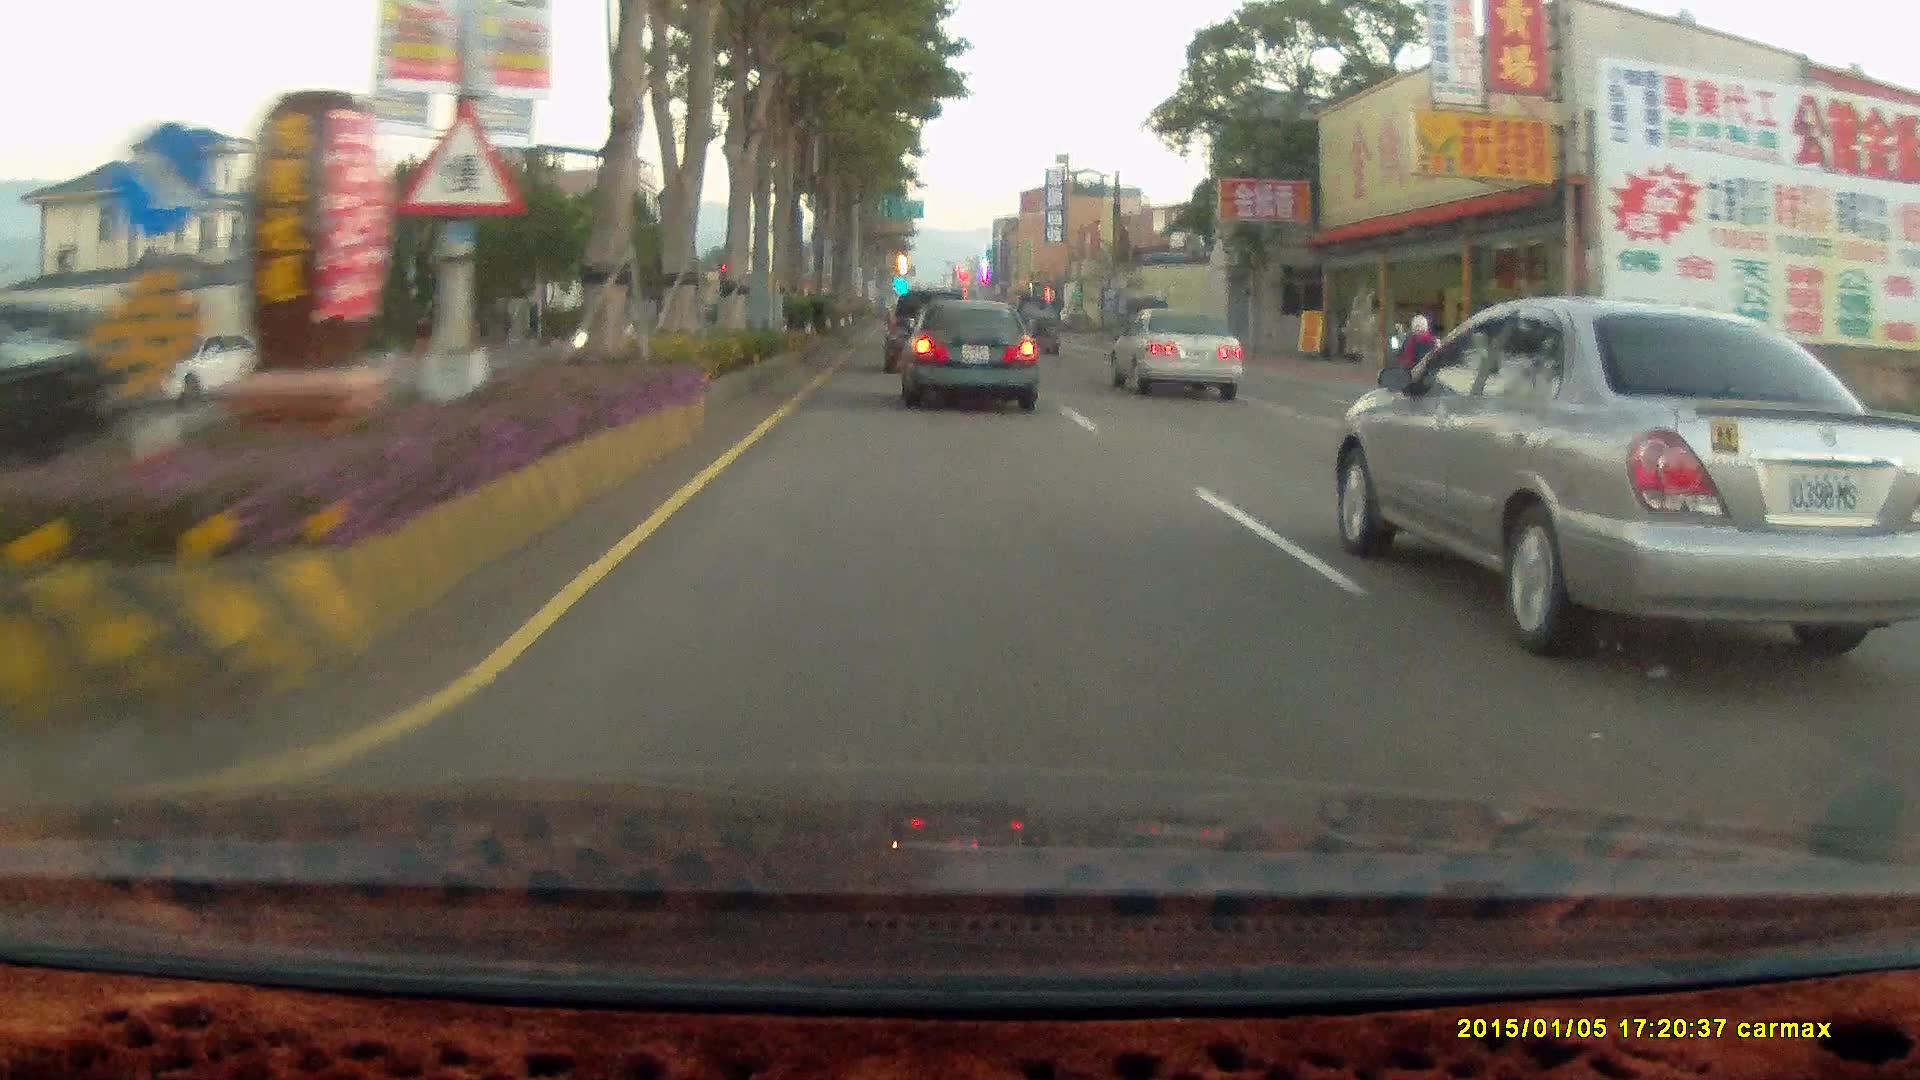rider: (1386, 313, 1452, 424), (1391, 317, 1447, 426)
vehicle: (1342, 289, 1920, 637), (1, 300, 178, 467), (1, 300, 138, 512), (898, 296, 1045, 418), (896, 300, 1039, 412), (84, 324, 269, 397), (1106, 307, 1243, 398), (108, 327, 270, 403), (1122, 302, 1253, 392), (883, 286, 973, 379), (881, 290, 964, 375), (1007, 292, 1061, 355)
